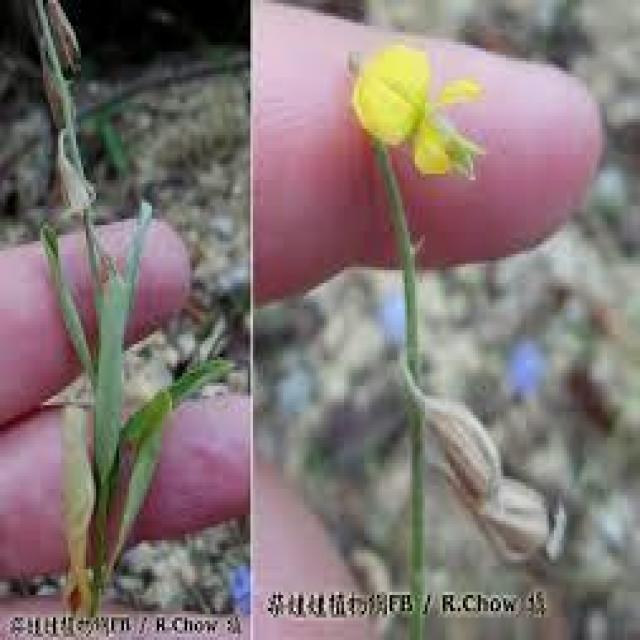organic waste: (340, 59, 490, 198)
